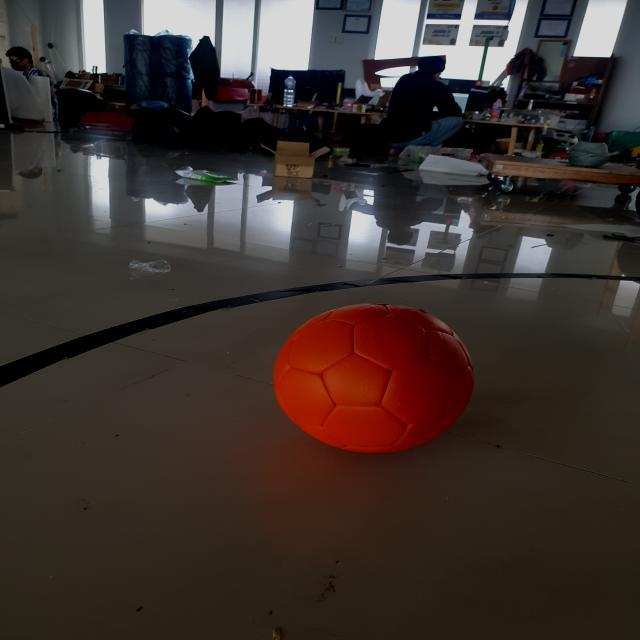bola: (256, 284, 488, 464)
